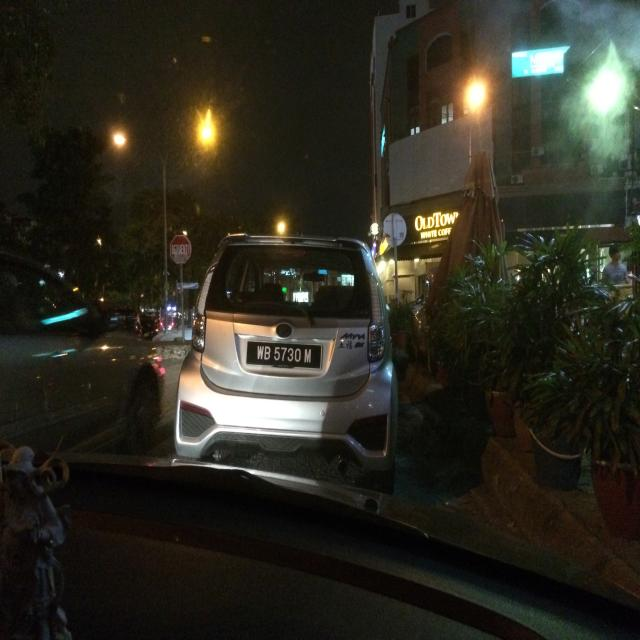Car: (123, 167, 450, 502)
